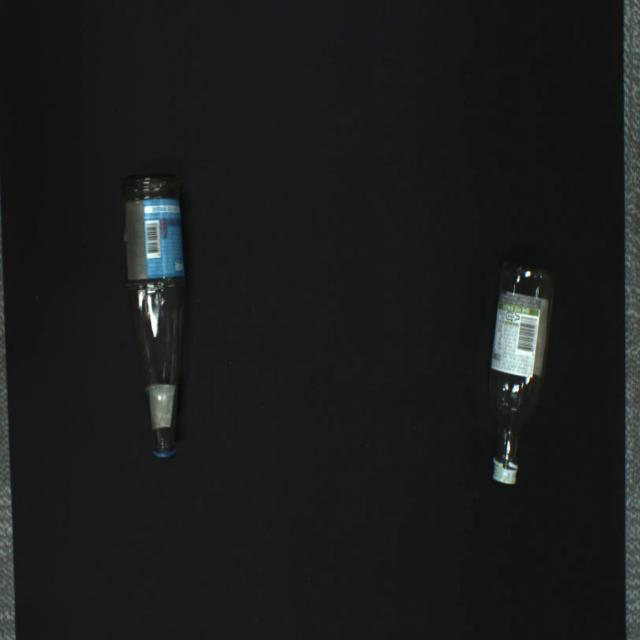beer-bottle: (123, 175, 186, 458)
soju-bottle: (489, 261, 554, 483)
